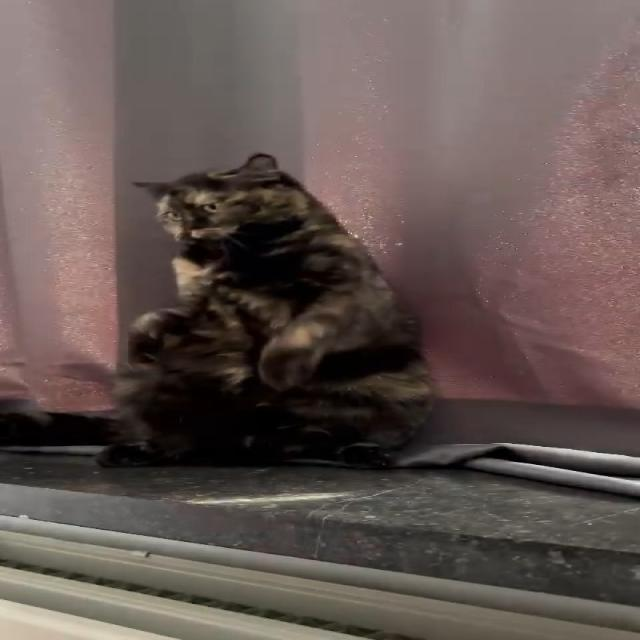authorized: (93, 152, 436, 468)
